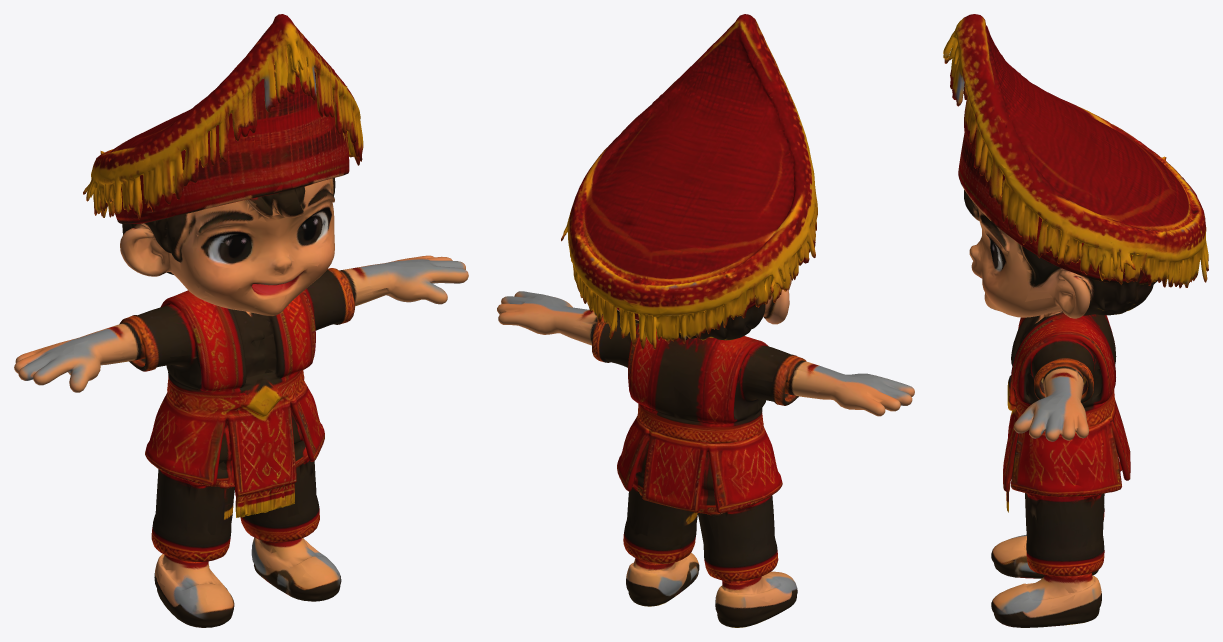
File: tripo_convert_abf8e0ed-4866-48fd-9423-0d898b95f873.fbx
3 views of the same model, side by side, from view 1: azimuth 30°, elevation 25°; view 2: azimuth 150°, elevation 25°; view 3: azimuth 270°, elevation 25° (orthographic). The views are drawn at different scales.
Parts seen in each view (by area): view 1: tripo_node_abf8e0ed; view 2: tripo_node_abf8e0ed; view 3: tripo_node_abf8e0ed.
Part boxes in pixels (box(x1,y1,x2,y2)): tripo_node_abf8e0ed: box(14, 14, 468, 627); tripo_node_abf8e0ed: box(497, 14, 914, 627); tripo_node_abf8e0ed: box(943, 14, 1208, 627).
Size of the model in its own units: 76.63 by 41.54 by 99.99.
Materials: 1 (1 with a texture image).
